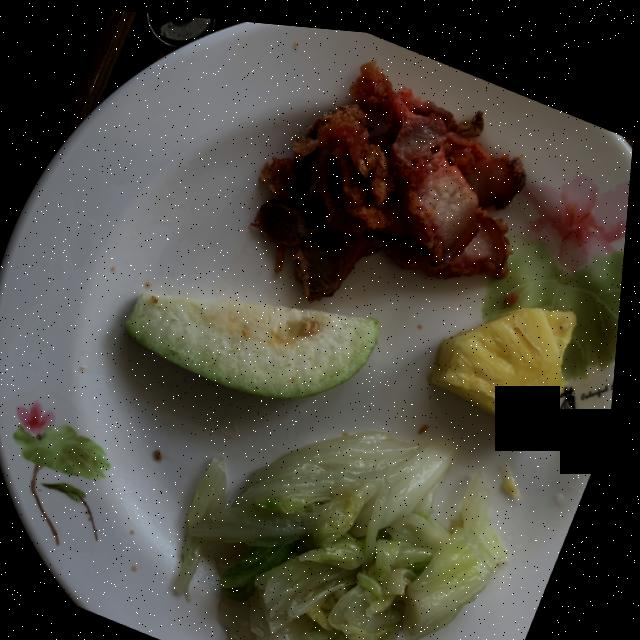cabbage: (184, 422, 515, 640)
coin: (146, 10, 214, 45)
guava -sliced-: (130, 289, 384, 392)
pineapple: (434, 297, 581, 429)
red grilled pork: (258, 55, 527, 294)
